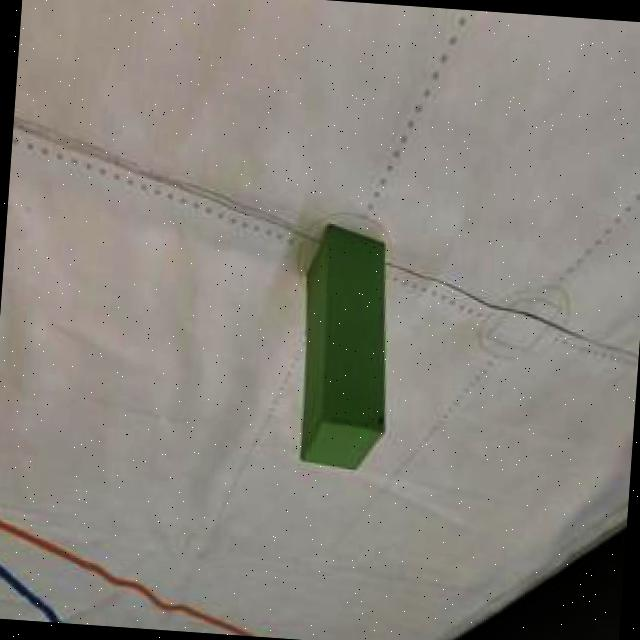greenbox: (290, 218, 400, 476)
